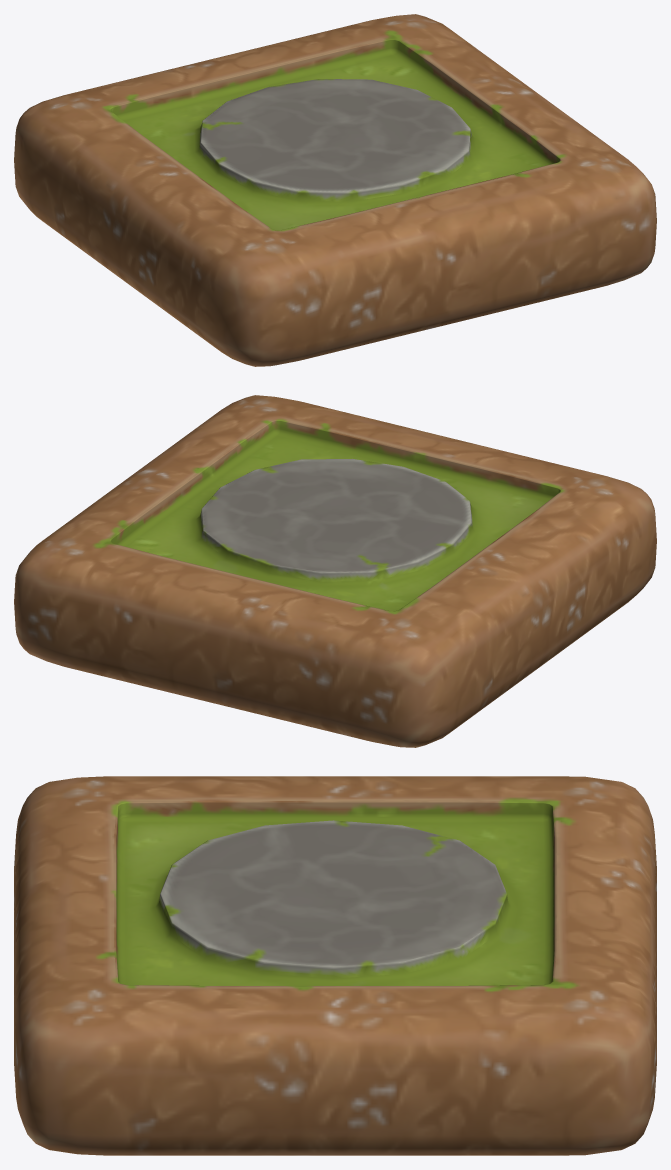
The model's file is arena block 1.fbx.
3 renders of one model, top to bottom at view 1: azimuth 30°, elevation 25°; view 2: azimuth 150°, elevation 25°; view 3: azimuth 270°, elevation 25°, orthographic. The views are drawn at different scales.
Visible parts, largest first — view 1: arena block 1 lp; view 2: arena block 1 lp; view 3: arena block 1 lp.
Boxes of the visible parts, bbox=[...] form: arena block 1 lp: bbox=[14, 14, 656, 366]; arena block 1 lp: bbox=[14, 395, 656, 747]; arena block 1 lp: bbox=[14, 776, 656, 1155].
Bounding box in the file's own units: 200 × 49.95 × 200.
